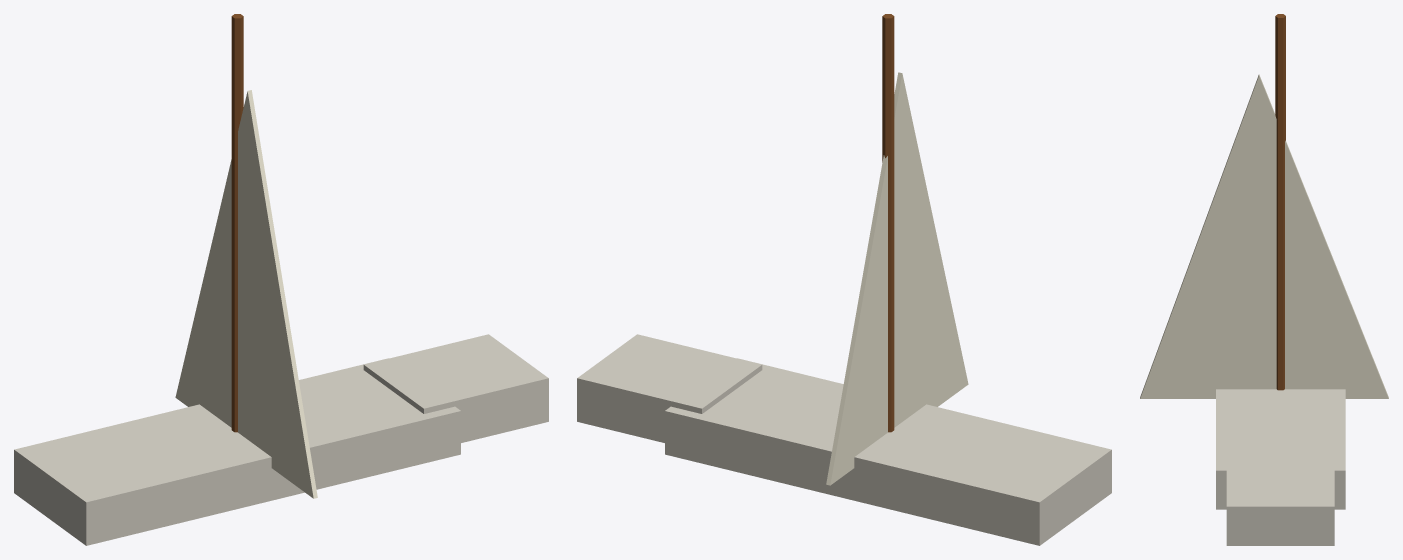
File: h_sailboat.glb
The picture shows the model from 3 angles, left to right: view 1: azimuth 30°, elevation 25°; view 2: azimuth 150°, elevation 25°; view 3: azimuth 270°, elevation 25°; orthographic projection. The views are drawn at different scales.
Visible parts, largest first — view 1: sailboat; view 2: sailboat; view 3: sailboat.
Boxes of the visible parts, x1,y1,x2,y2 form: sailboat: (14, 14, 548, 545); sailboat: (577, 14, 1111, 545); sailboat: (1140, 14, 1388, 545).
Size of the model in its own units: 4.5 by 4.42 by 2.3.
